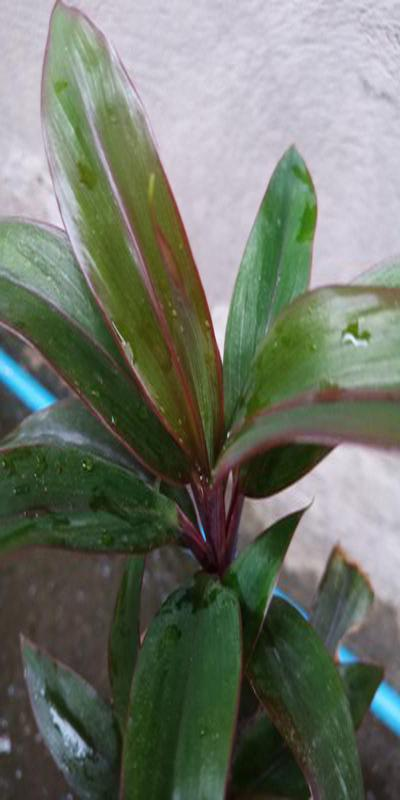Baston de san jose: (20, 75, 393, 793)
